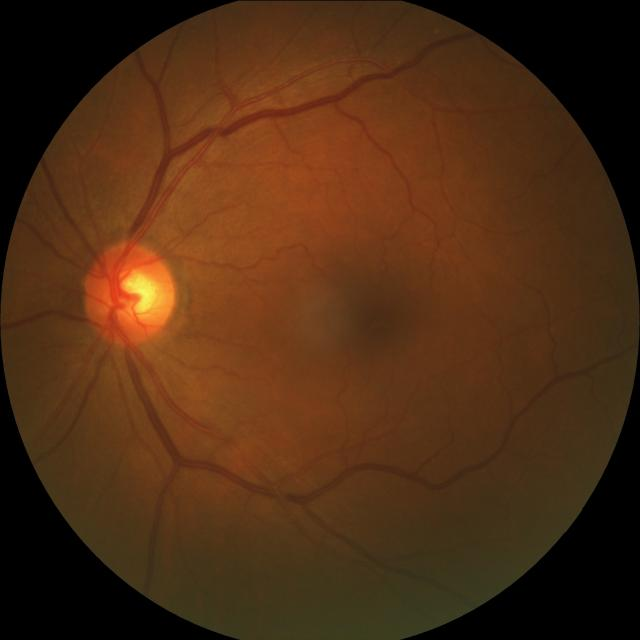OC: (102, 266, 156, 316)
OD: (79, 238, 174, 346)
